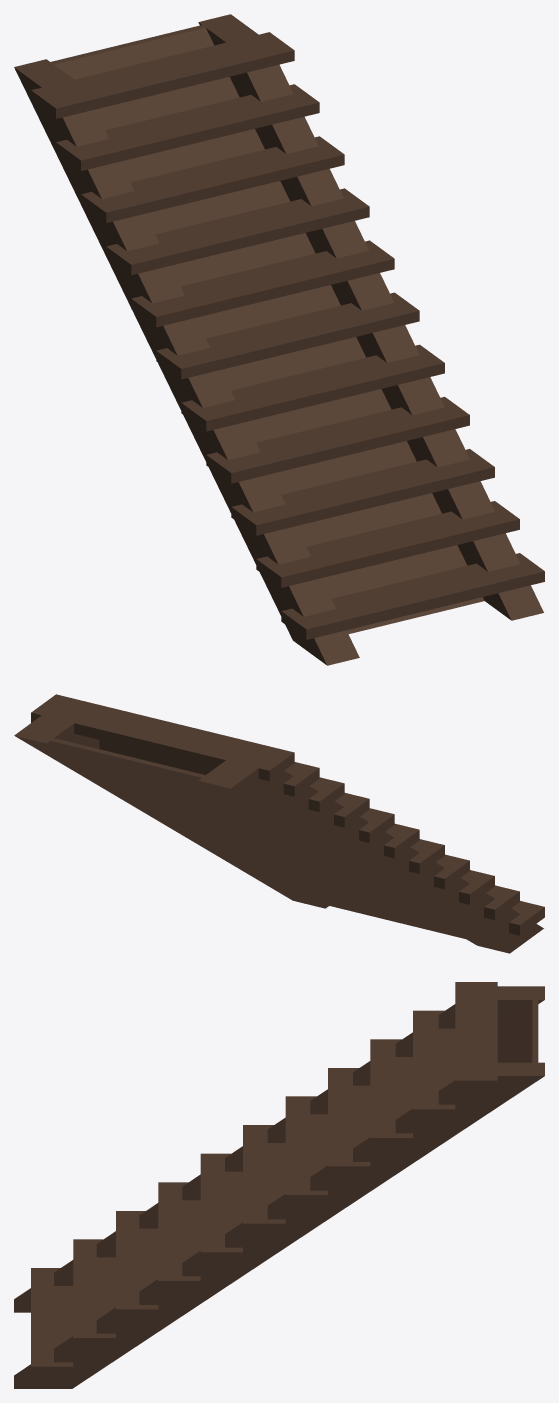
Rendered from P_StairsMouldedStraight.fbx.
The picture shows the model from 3 angles, top to bottom: view 1: azimuth 30°, elevation 25°; view 2: azimuth 150°, elevation 25°; view 3: azimuth 270°, elevation 25°; orthographic projection. The views are drawn at different scales.
Visible parts, largest first — view 1: P_StairsMouldedStraight; view 2: P_StairsMouldedStraight; view 3: P_StairsMouldedStraight.
Part boxes in pixels (x1,y1,x2,y2): P_StairsMouldedStraight: (14,14,544,665); P_StairsMouldedStraight: (14,694,544,953); P_StairsMouldedStraight: (14,982,544,1388).
Bounding box in the file's own units: 220 × 325 × 501.
